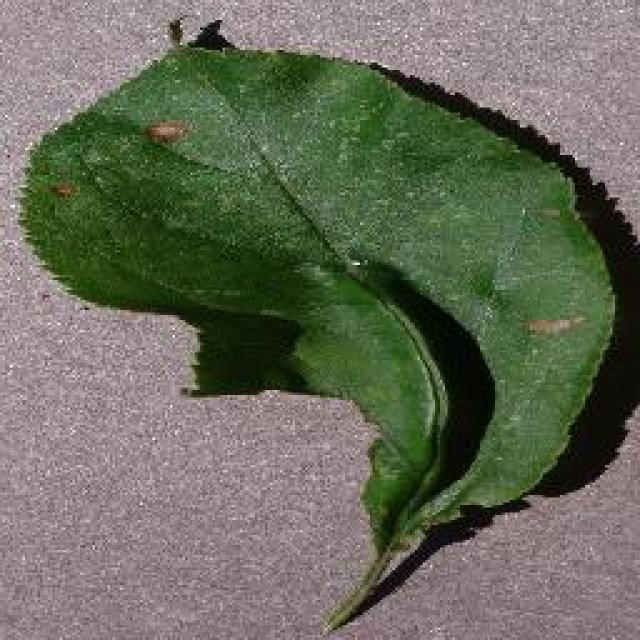Black_rot: (15, 15, 620, 635)
